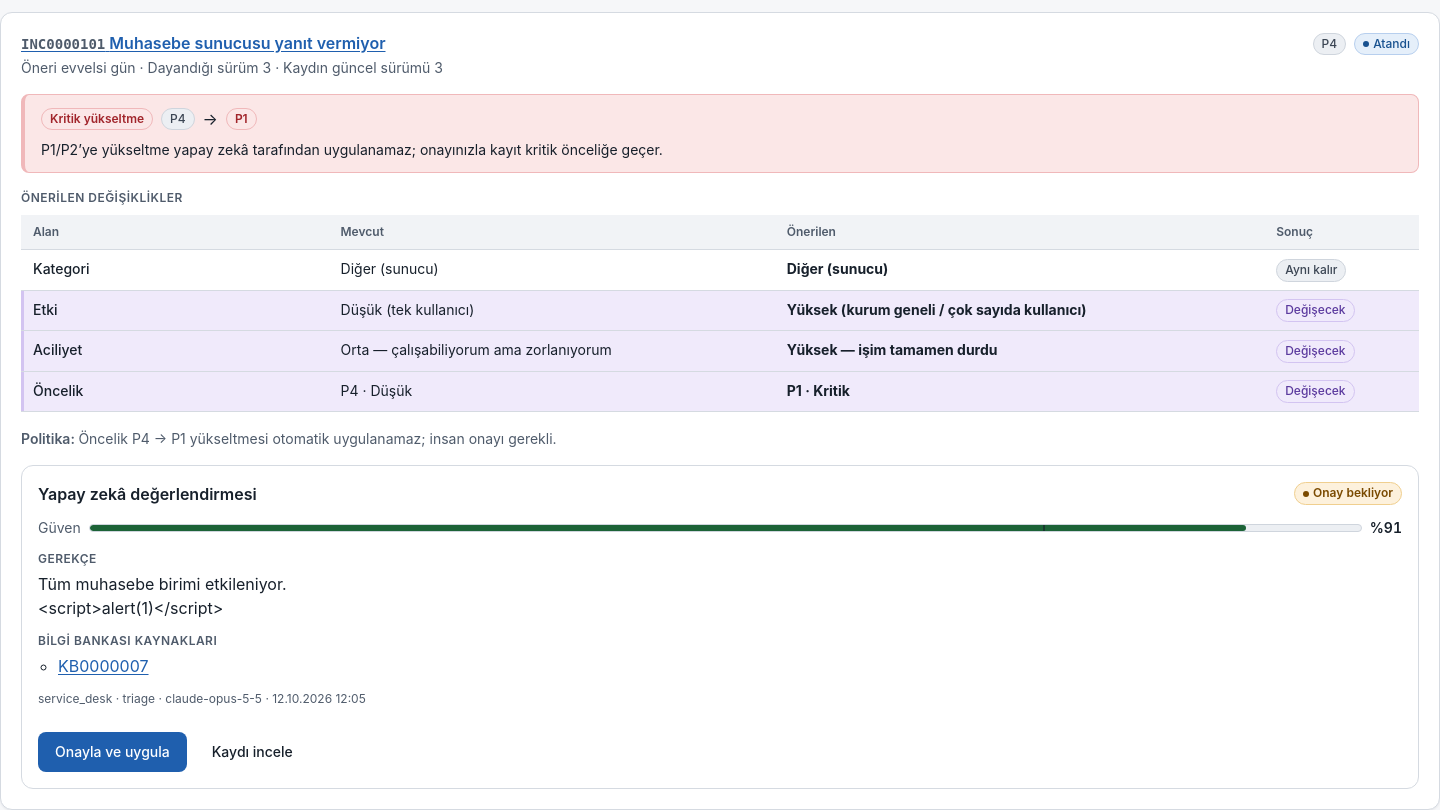
Test: ApprovalsPage — onay kutusu › onayla: onay penceresi değişiklikleri gösterir, onaylayınca liste yenilenir
(page scrolled)
Expected: the text "Düşük (tek kullanıcı)" is shown, x1=328 y1=290 x2=775 y2=331
Click the button "Onayla ve uygula": (112,752) x1=38 y1=732 x2=187 y2=772
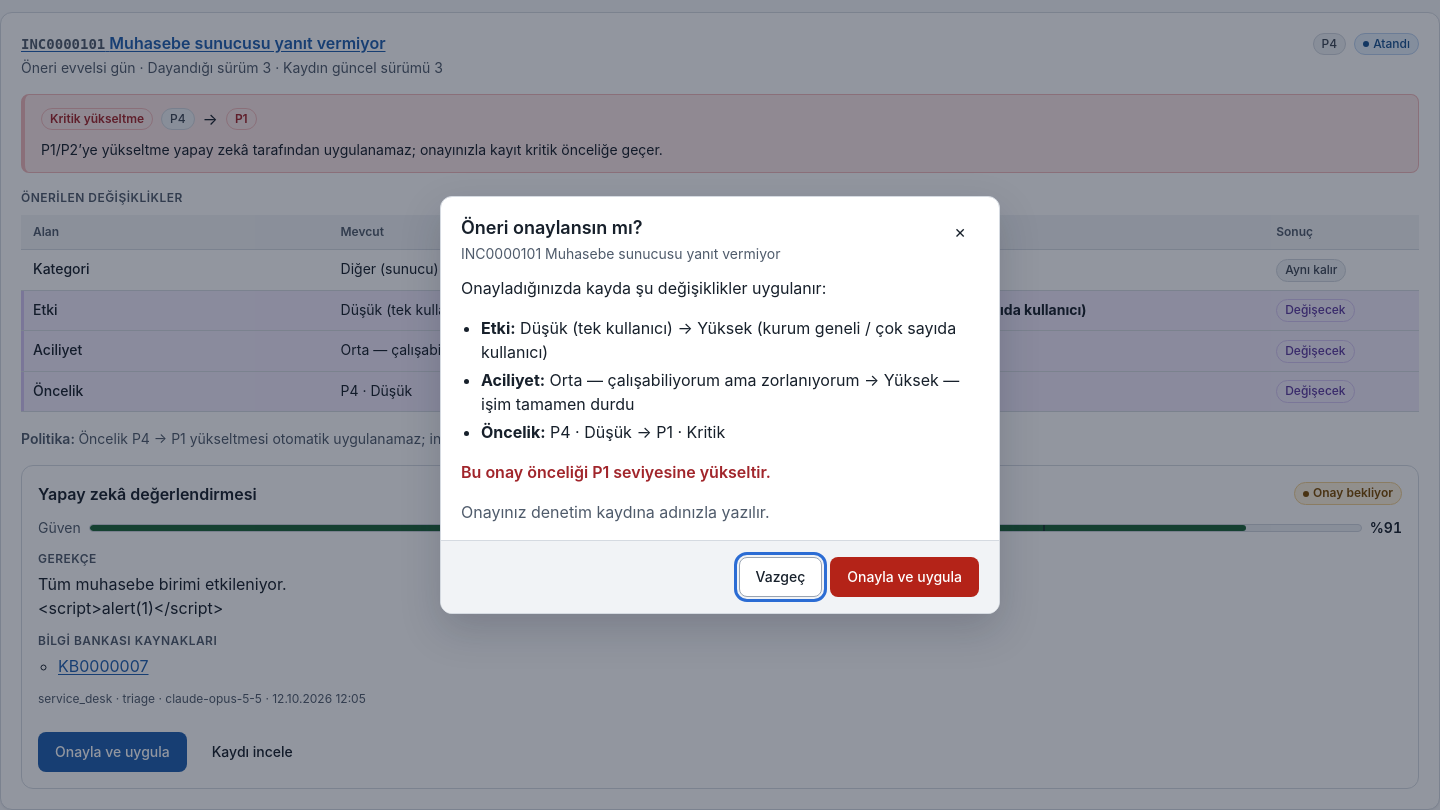
Expected: the dialog "Öneri onaylansın mı?" shows "Bu onay önceliği P1 seviyesine yükseltir.", x1=440 y1=196 x2=1000 y2=614
Click the button "Onayla ve uygula": (905,577) x1=830 y1=557 x2=979 y2=597
(page scrolled)
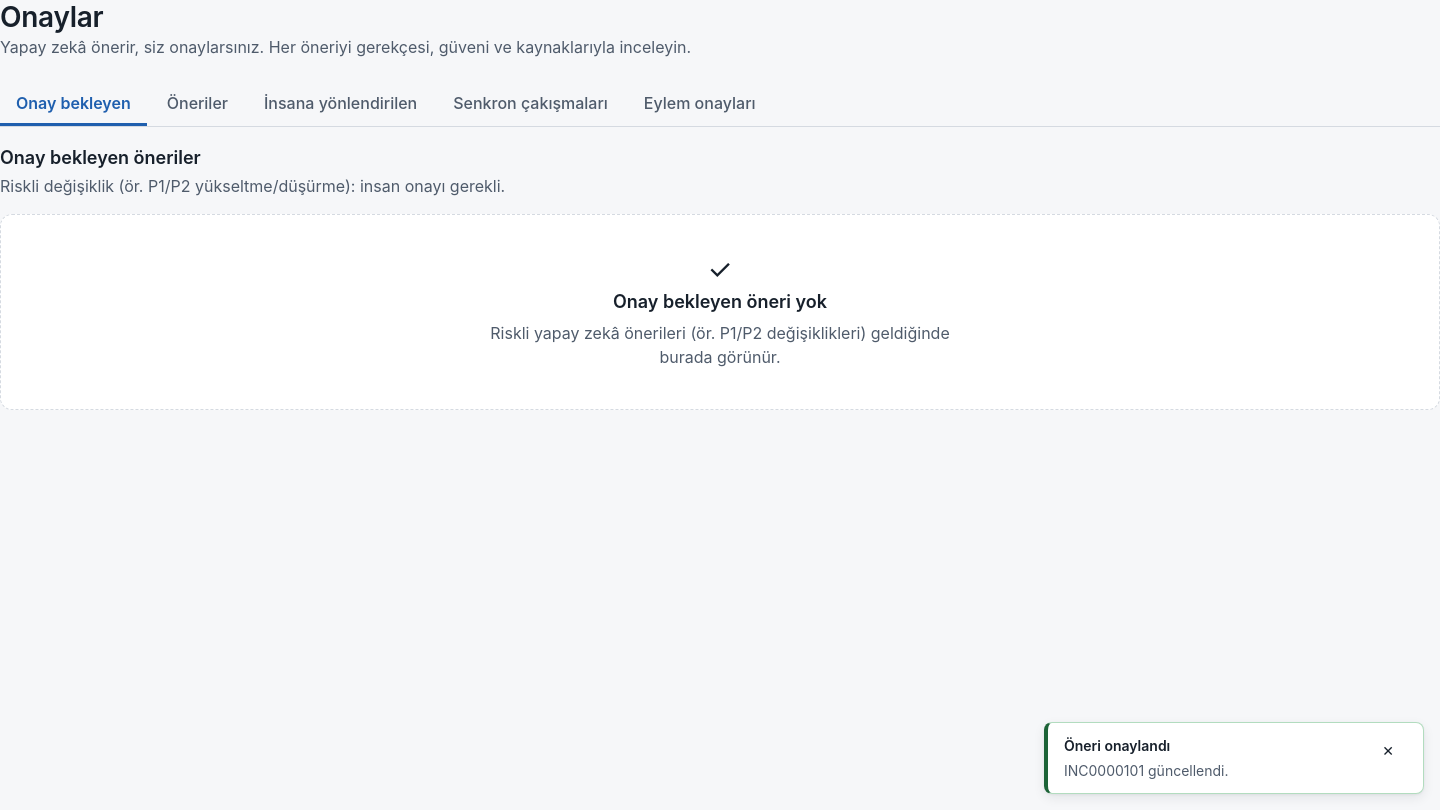
Expected: the text "Öneri onaylandı" is shown, x1=1064 y1=737 x2=1170 y2=754
Expected: the heading "Onay bekleyen öneri yok" is shown, x1=613 y1=290 x2=827 y2=313
Expected: the dialog is gone
